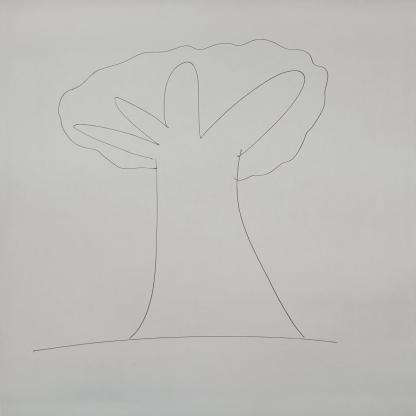branch_cut: (71, 61, 305, 163)
crown_mushroom: (60, 40, 329, 181)
root_none: (110, 309, 325, 382)
trunk_straight: (152, 182, 276, 293)
